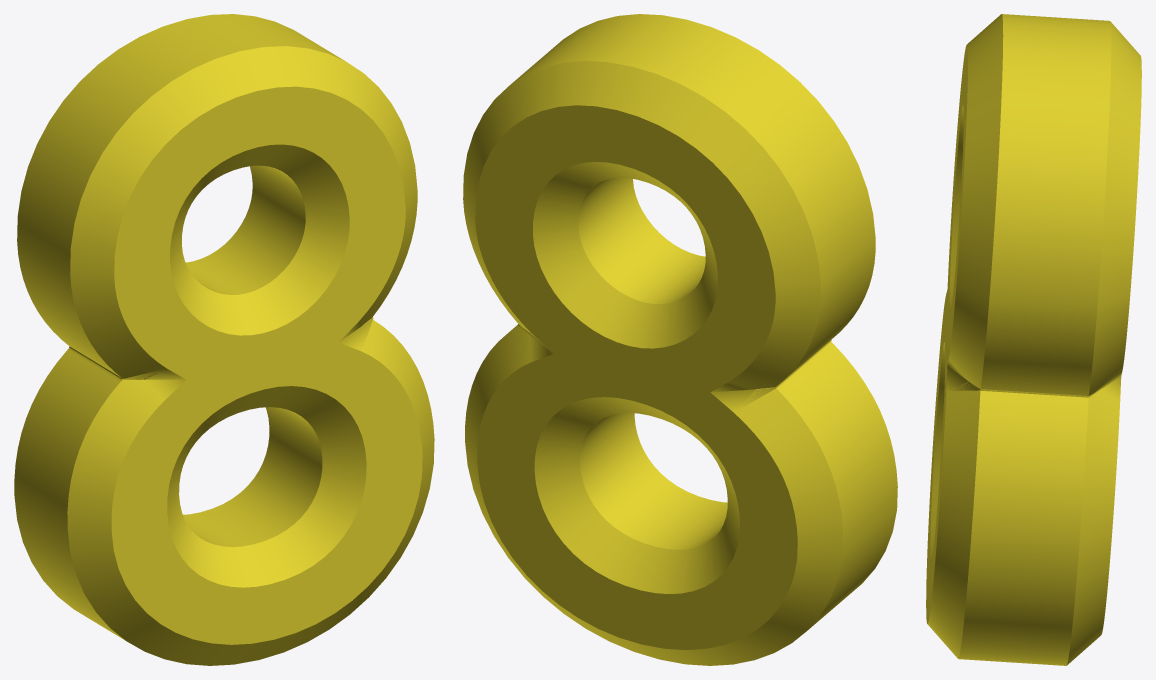
Rendered from VUIT.fbx.
3 views of the same model, side by side, from view 1: azimuth 30°, elevation 25°; view 2: azimuth 150°, elevation 25°; view 3: azimuth 270°, elevation 25° (orthographic). The views are drawn at different scales.
Visible parts, largest first — view 1: Text; view 2: Text; view 3: Text.
Boxes of the visible parts, x1,y1,x2,y2 form: Text: [14, 14, 434, 665]; Text: [463, 14, 897, 665]; Text: [926, 14, 1141, 665].
Size of the model in its own units: 48.61 by 75.68 by 24.27.
